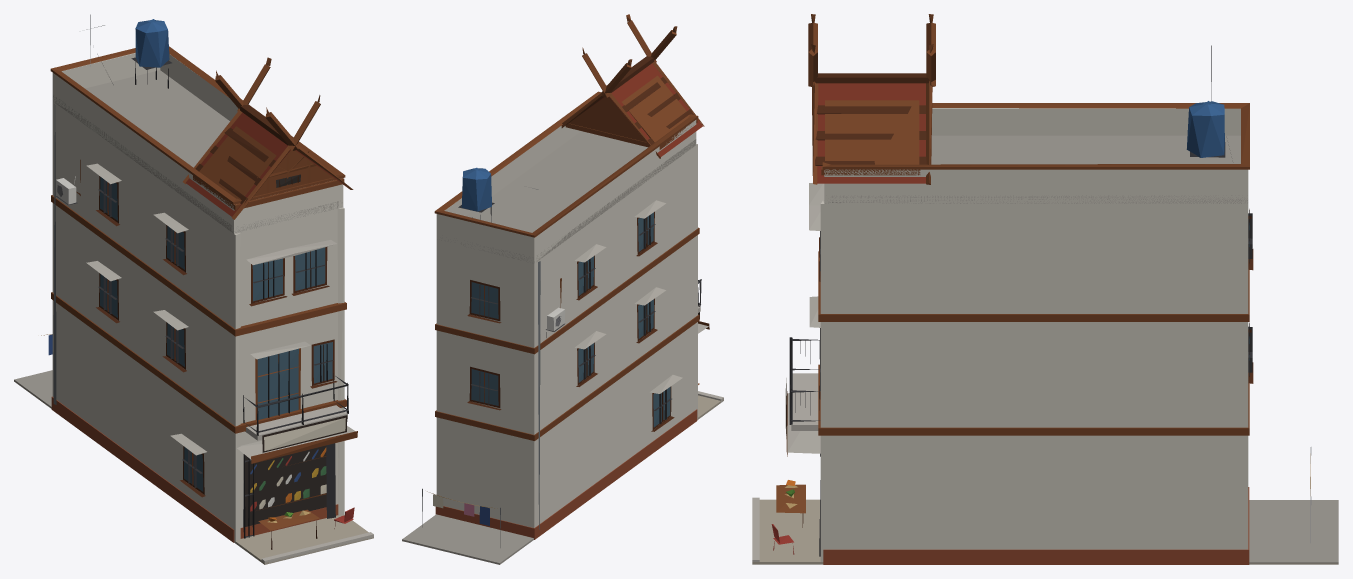
Rendered from bay2_left.glb.
The picture shows the model from 3 angles, left to right: view 1: azimuth 30°, elevation 25°; view 2: azimuth 150°, elevation 25°; view 3: azimuth 270°, elevation 25°; orthographic projection. The views are drawn at different scales.
Visible parts, largest first — view 1: body, windows; view 2: body, windows; view 3: body.
Part boxes in pixels (bbox=[...]): body: bbox=[14, 14, 373, 564]; windows: bbox=[100, 174, 332, 526]; body: bbox=[402, 14, 723, 564]; windows: bbox=[471, 212, 670, 427]; body: bbox=[752, 14, 1338, 564].
Bounding box in the file's own units: 4.66 × 15.1 × 15.9.
